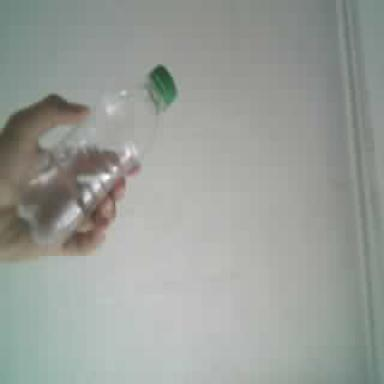bottle: (17, 66, 174, 243)
